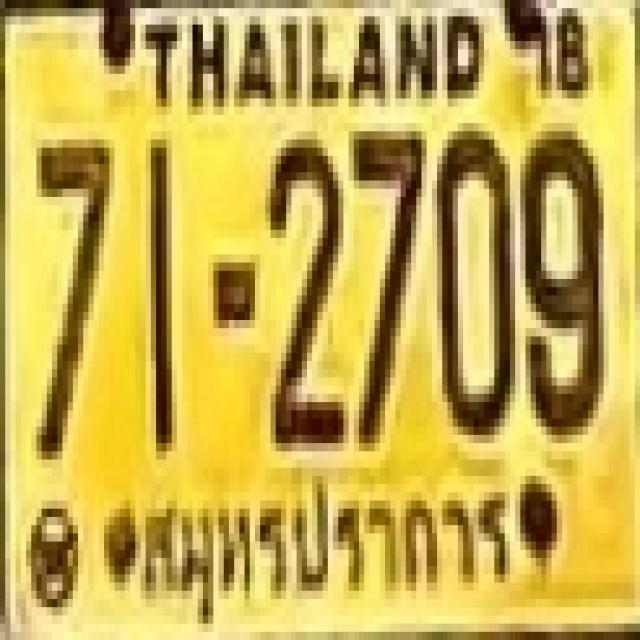0: (432, 123, 510, 427)
1: (146, 136, 166, 448)
2: (266, 136, 338, 448)
7: (31, 132, 109, 452), (348, 127, 422, 439), (348, 123, 422, 386), (348, 127, 422, 332)
9: (520, 123, 598, 427)
SPK: (128, 465, 510, 621)
